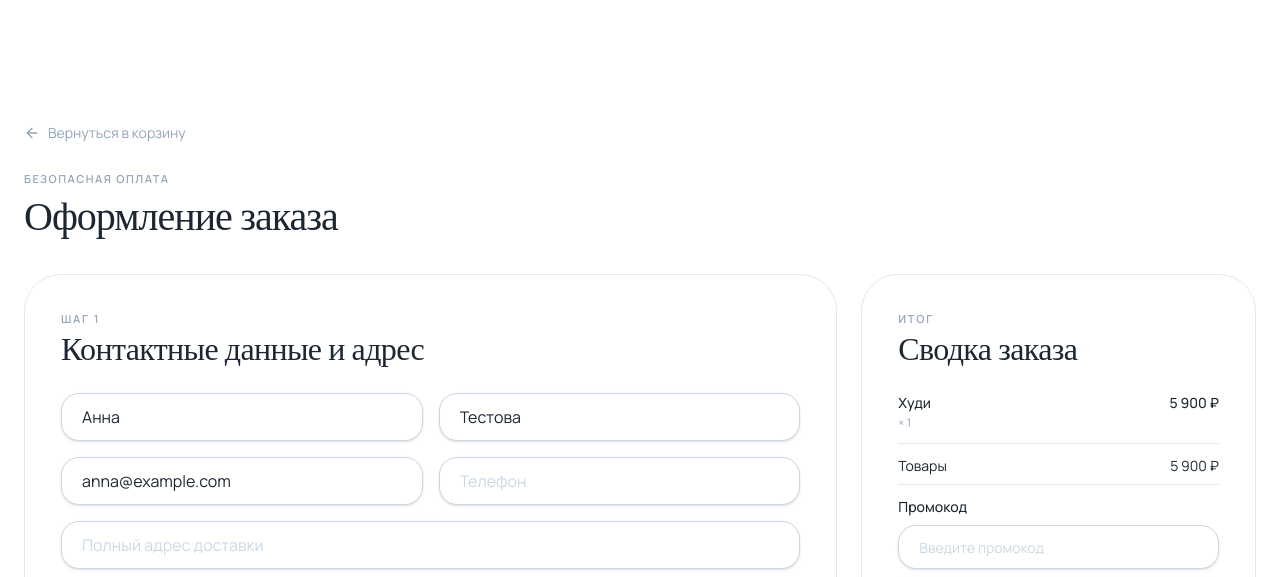
Test: Checkout (CHECKOUT.E2E.1) › out of stock: clear message, link back to the cart, the cart is reloaded, no payment attempted
Type "+79990001122" into the field with placeholder "Телефон". click: (620, 481)
box: top-left (439, 457), bottom-right (800, 505)
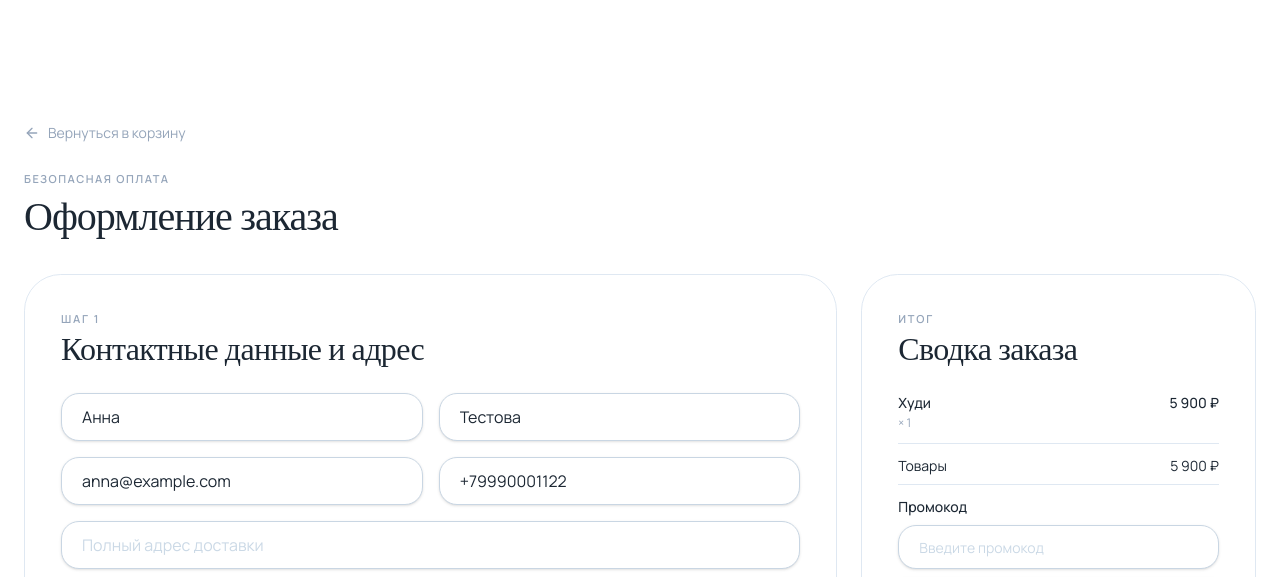
Type "Москва, Тверская 1" into the field with placeholder "Полный адрес доставки". click: (431, 545)
box: top-left (61, 521), bottom-right (800, 569)
(page scrolled)
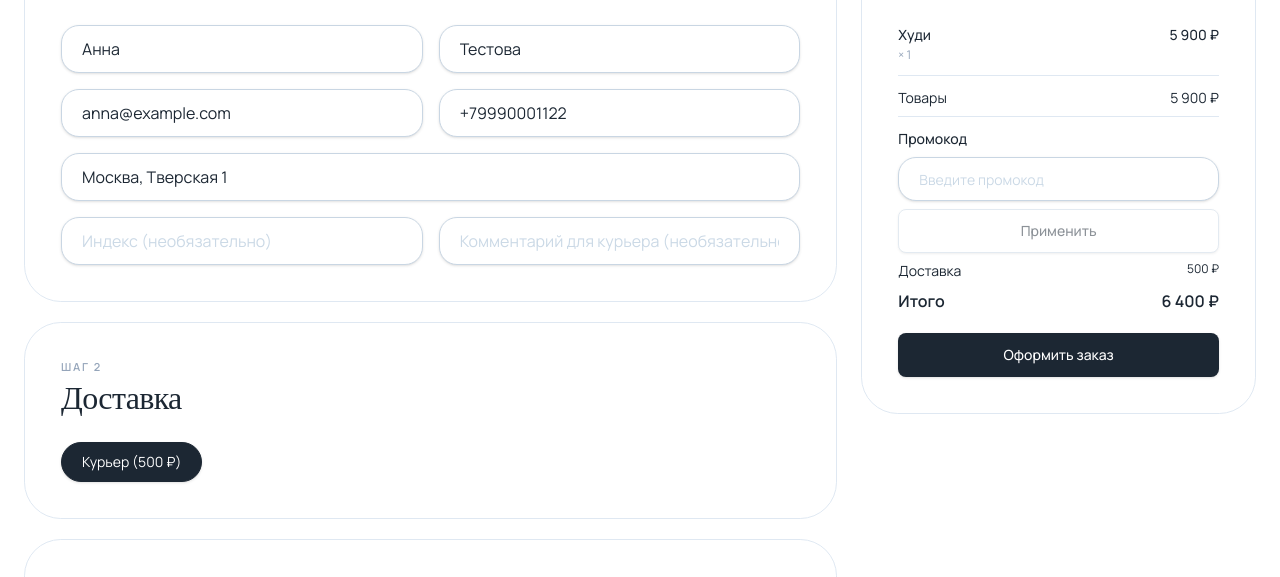
expect the button "Курьер (500 ₽)" is shown: met, box top-left (61, 442), bottom-right (202, 482)
Click the button "Оформить заказ". click: click(1059, 355)
box: top-left (898, 333), bottom-right (1219, 377)
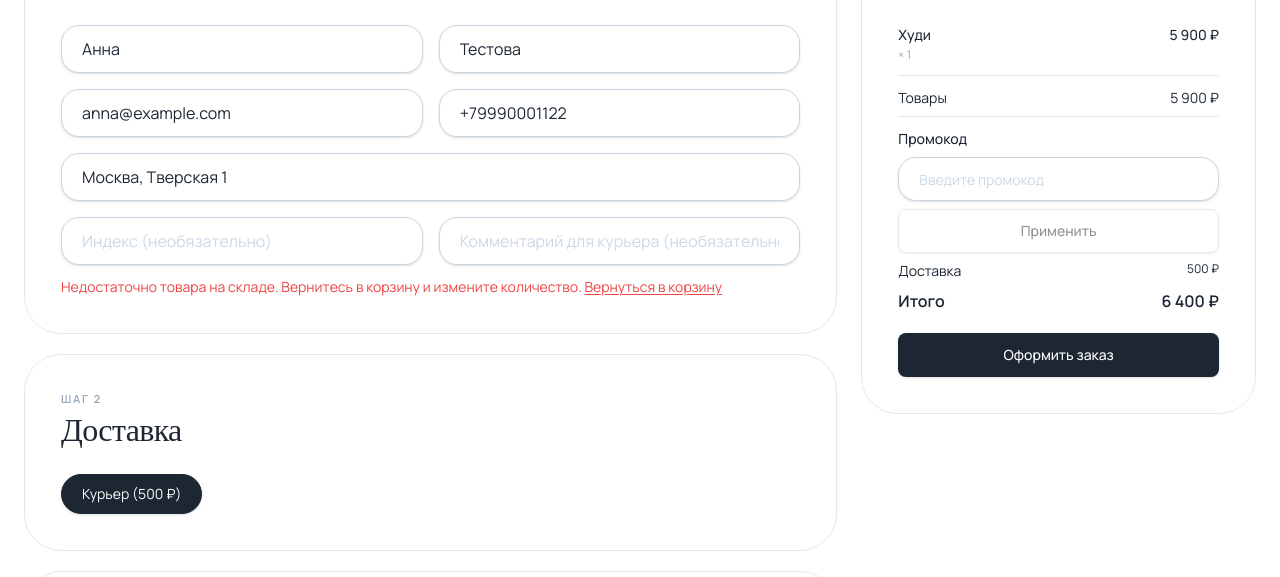
expect the message shows "Вернитесь в корзину и измените количество.": met, box top-left (61, 277), bottom-right (582, 296)
